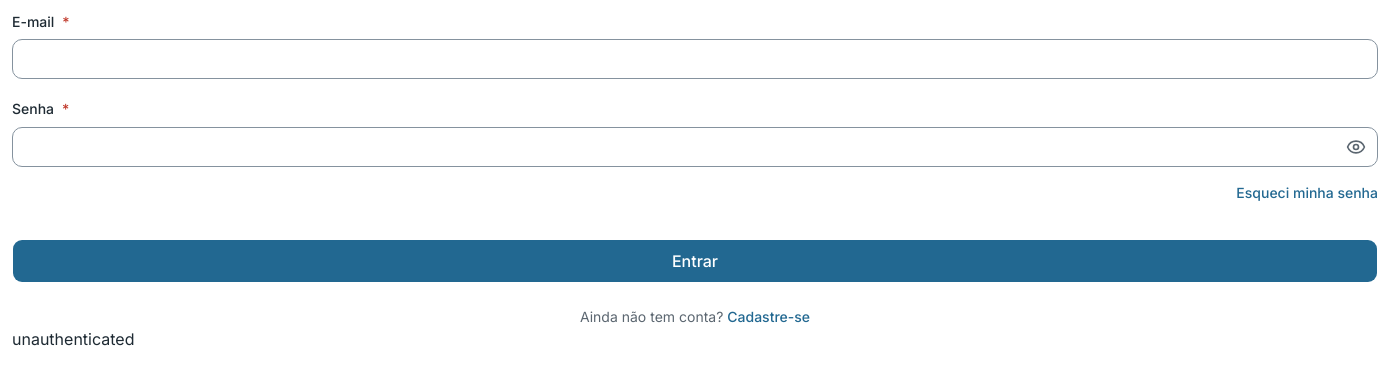
Test case: LoginForm (11 §71, 17_TESTING §76) › autentica e atualiza o estado da sessão
Type "mariana@ecobyte.local" into the field labelled "E-mail *".
click(695, 59); type("mariana@ecobyte.local")  # box [12,39,1378,79]
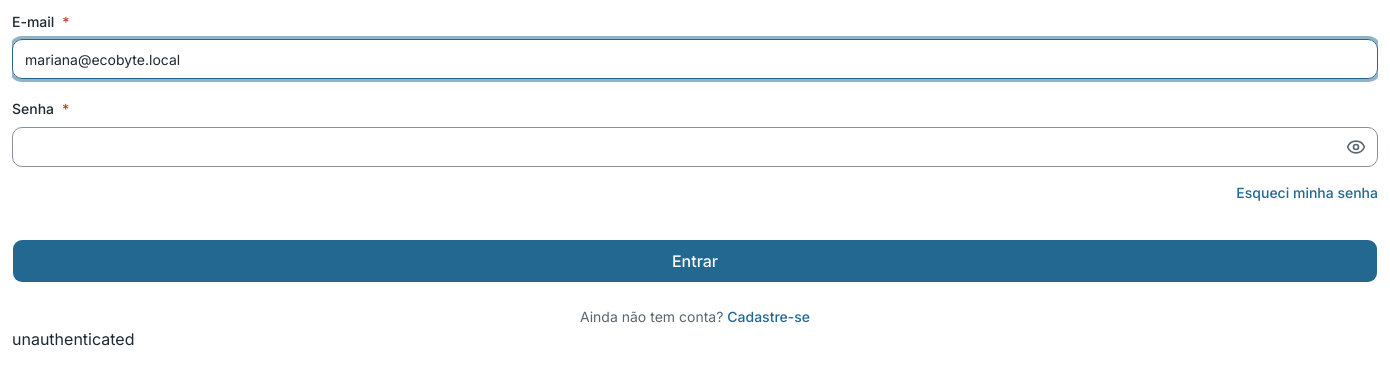
Type "ClientePF123!" into the password field labelled "Senha *".
click(695, 146); type("ClientePF123!")  # box [12,126,1378,166]
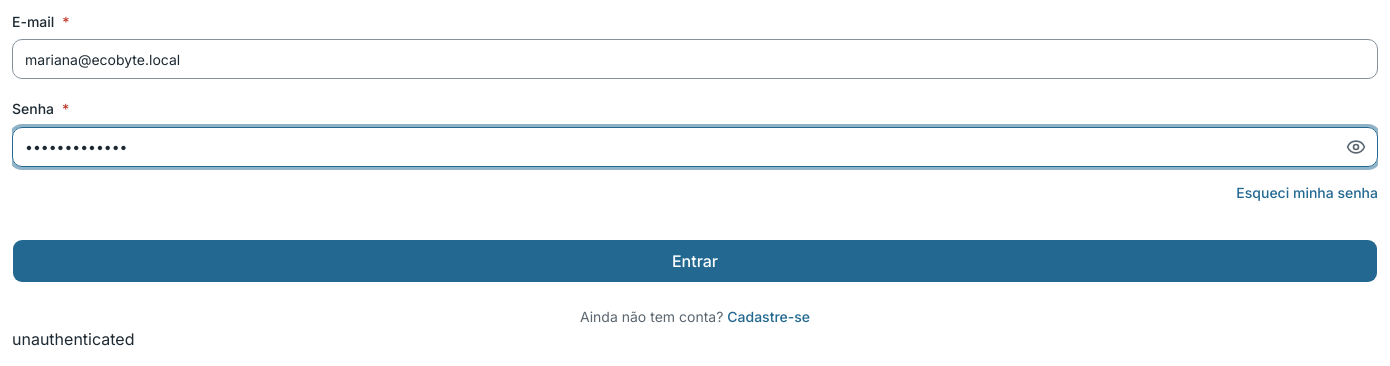
Click the button "Entrar".
click(695, 260)  # box [12,238,1378,282]
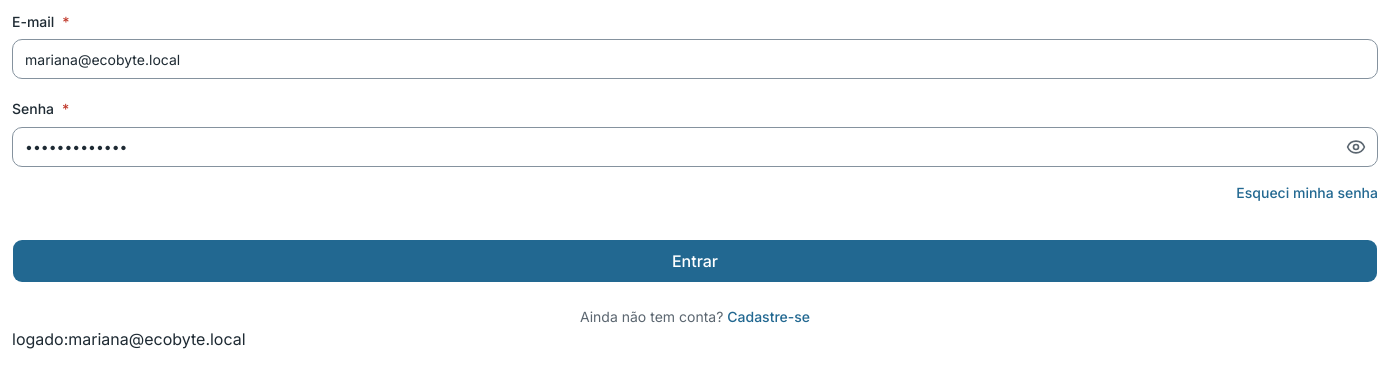
Check: the text with test id "auth-status" reads "logado:mariana@ecobyte.local", box [12,328,246,348]
